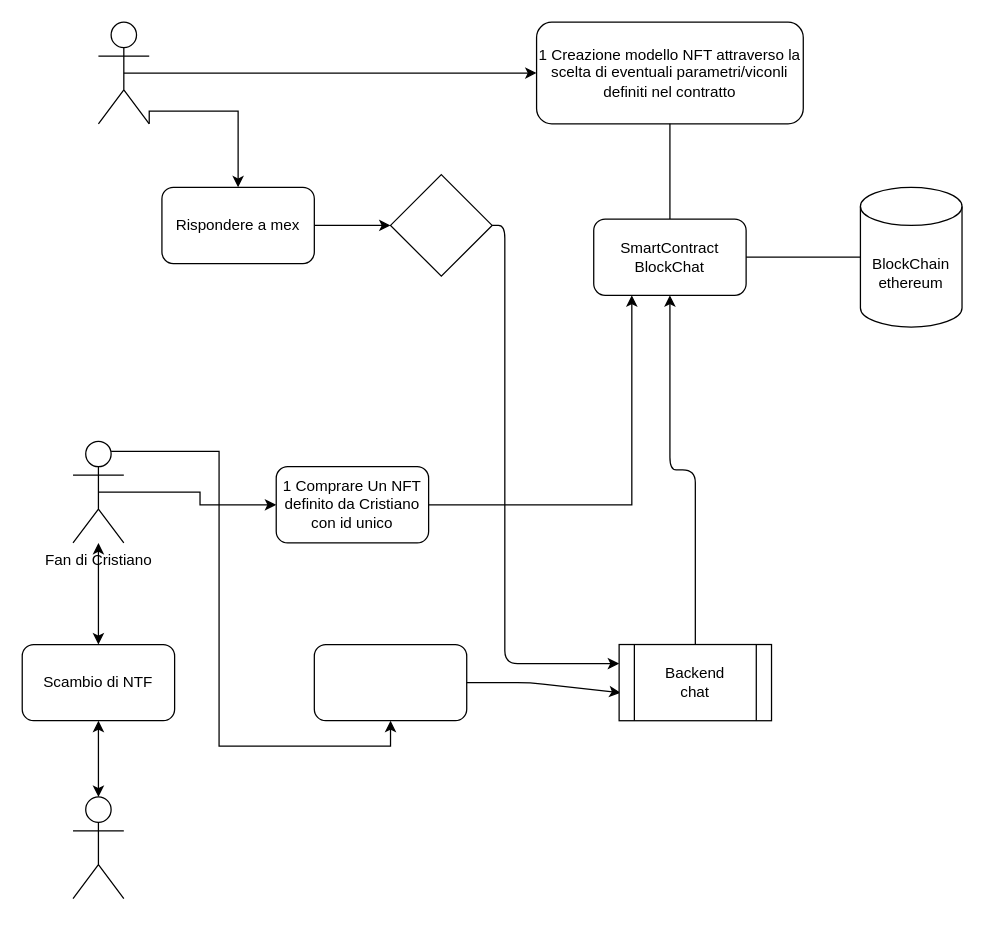
This 984x947 diagram has some shape labels left out. Here are the shapes that lost their labels. From the top down, the box of each, then its label:
(97, 21, 149, 124): Cristiano Ronaldo
(389, 173, 492, 276): Possibile controllo della risposta
(313, 643, 467, 721): 2 Inviare mex a Cristiano (sotto pagamento)
(72, 796, 124, 899): Utnete 2
